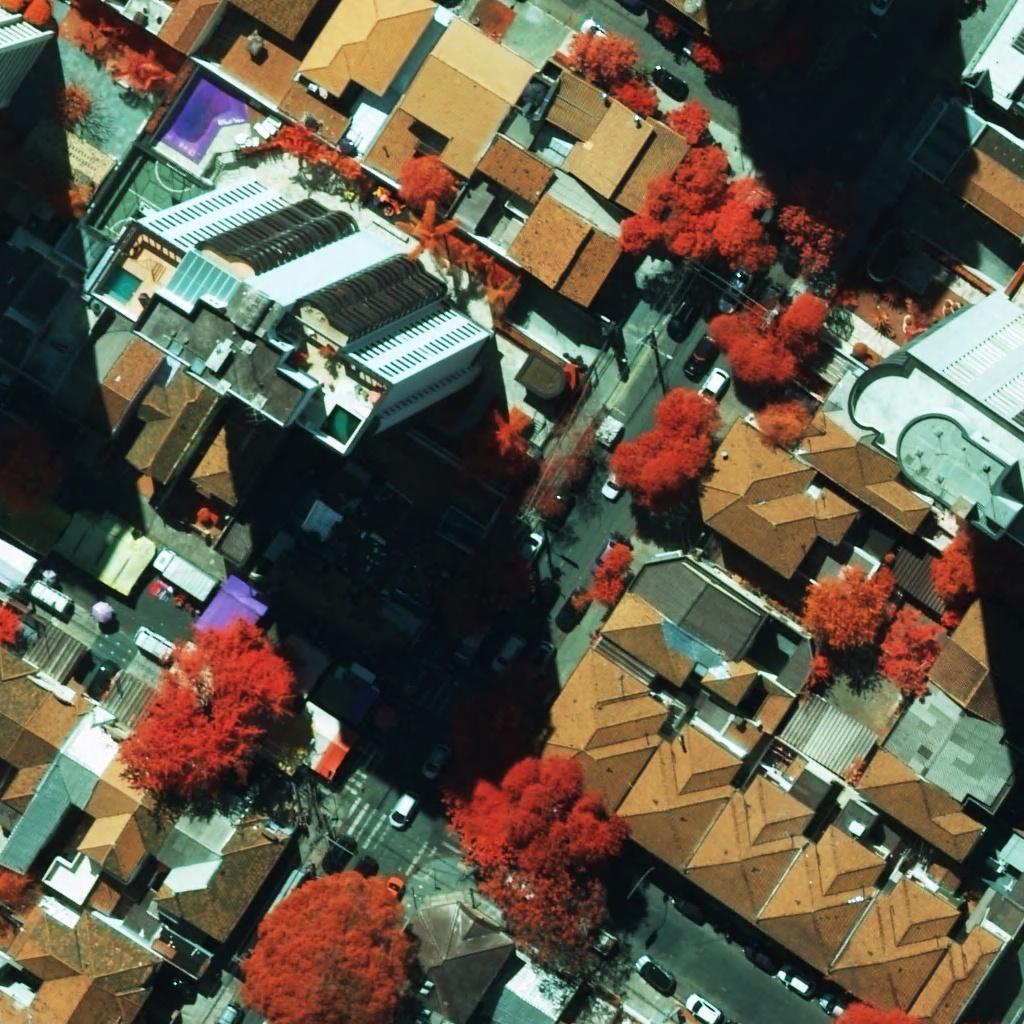pool: (155, 72, 248, 164), (100, 265, 143, 306), (320, 404, 361, 445)
